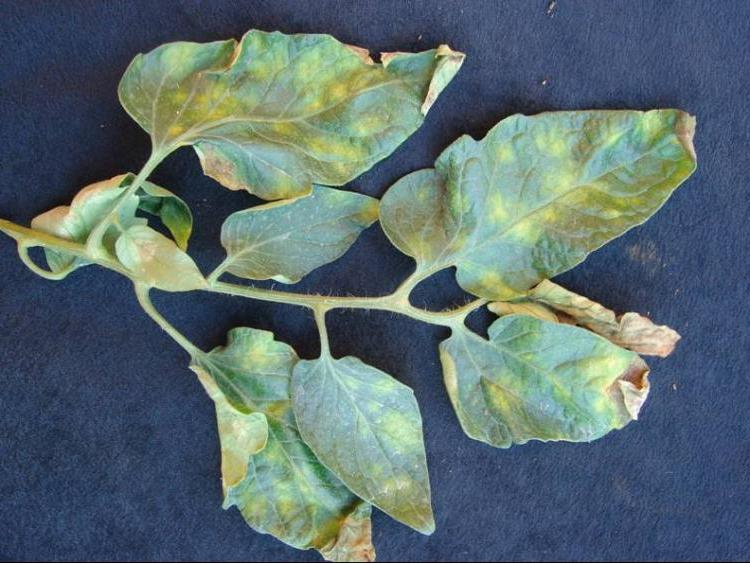Tomato mold leaf: (103, 20, 475, 204), (380, 98, 706, 297), (164, 329, 385, 562), (264, 350, 450, 541), (432, 315, 669, 459), (192, 184, 400, 282), (97, 218, 224, 302)
